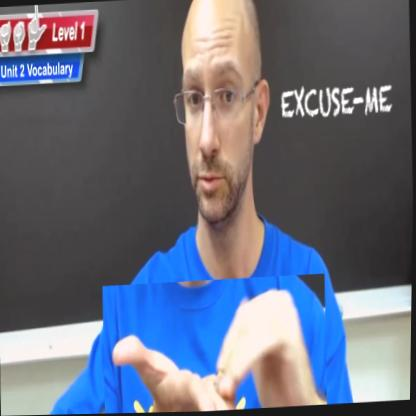ExcuseMe: (102, 274, 330, 414)
